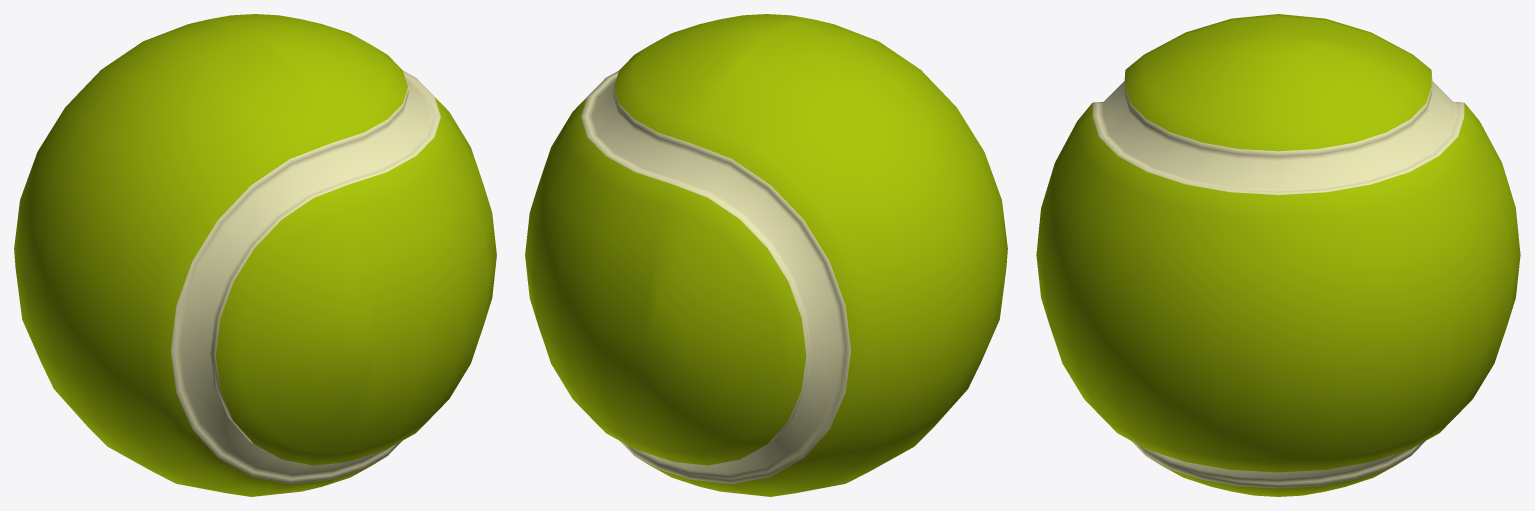
Rendered from SM_Tennis_Ball_01.fbx.
3 views of the same model, side by side, from view 1: azimuth 30°, elevation 25°; view 2: azimuth 150°, elevation 25°; view 3: azimuth 270°, elevation 25° (orthographic).
Visible parts, largest first — view 1: Tennis_Ball_01; view 2: Tennis_Ball_01; view 3: Tennis_Ball_01.
Boxes of the visible parts, x1=… form: Tennis_Ball_01: x1=14, y1=14, x2=496, y2=496; Tennis_Ball_01: x1=525, y1=14, x2=1007, y2=496; Tennis_Ball_01: x1=1036, y1=14, x2=1520, y2=496.
Bounding box in the file's own units: 52.04 × 52.04 × 52.04.
